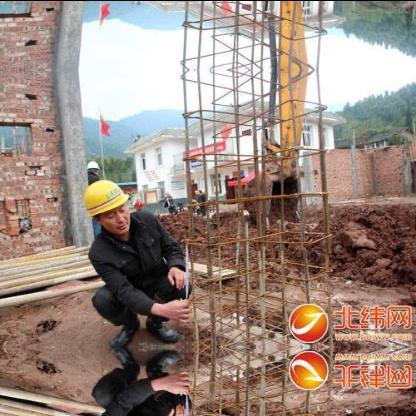Helmet: (78, 174, 132, 234), (85, 158, 99, 176)
